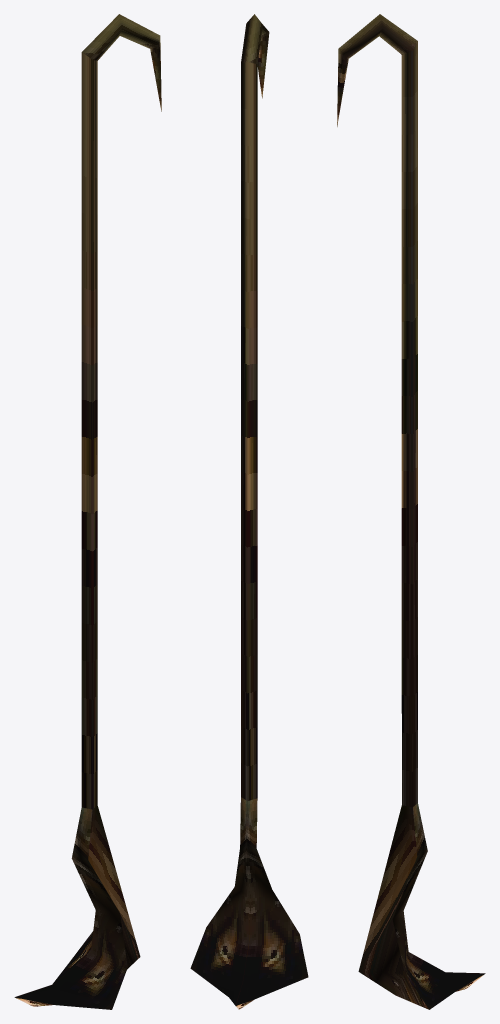
Rendered from Staff03.glb.
3 renders of one model, left to right at view 1: azimuth 90°, elevation 25°; view 2: azimuth 150°, elevation 25°; view 3: azimuth 270°, elevation 25°, orthographic. The views are drawn at different scales.
Visible parts, largest first — view 1: model_Staff03; view 2: model_Staff03; view 3: model_Staff03.
Part boxes in pixels (left/top/right/bottom): model_Staff03: left=14, top=14, right=161, bottom=1009; model_Staff03: left=190, top=14, right=308, bottom=1009; model_Staff03: left=337, top=14, right=485, bottom=1009.
Bounding box in the file's own units: 0.2086 × 1.96 × 0.2673.
1 material, 1 textured.
